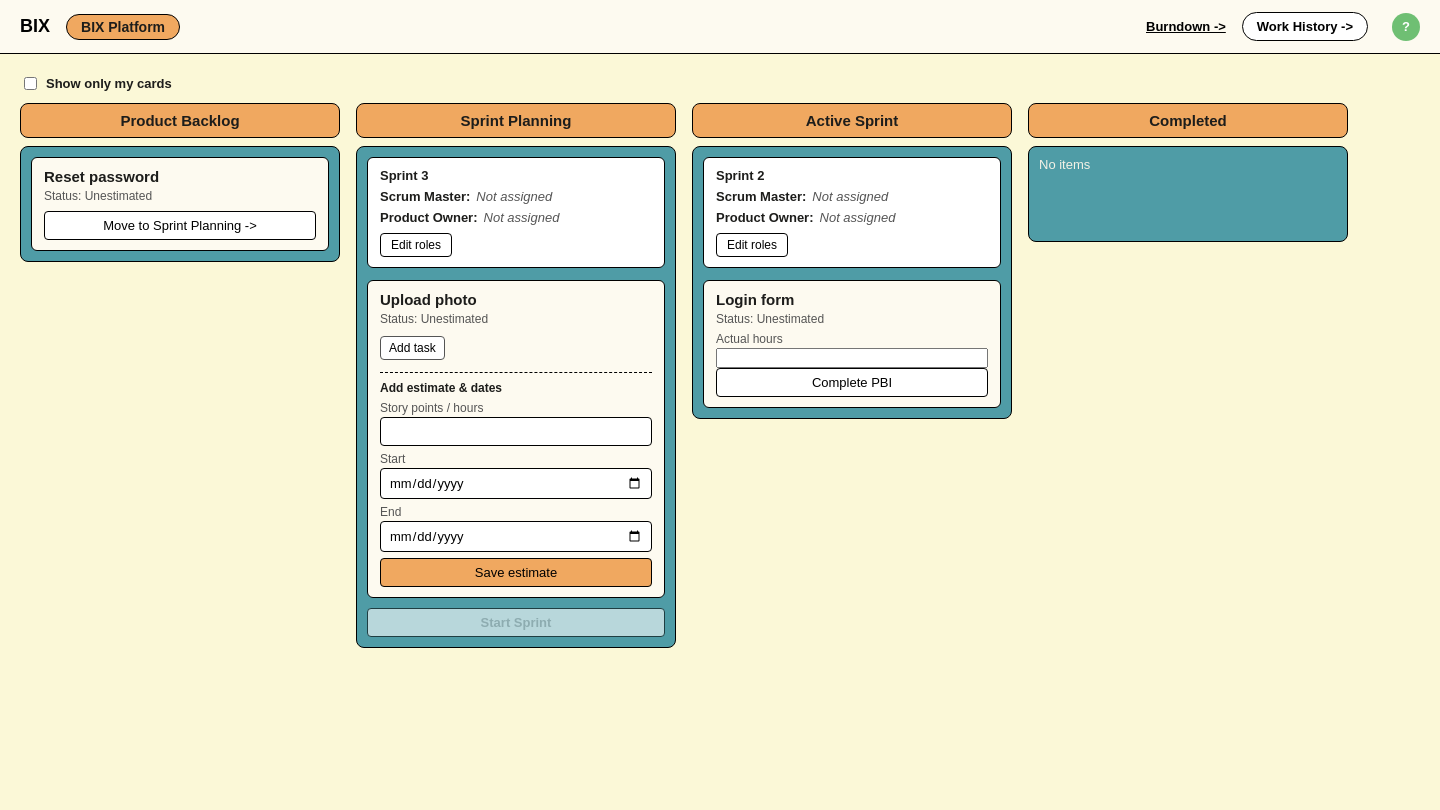
Scenario: Board page - sprint roles (US-09) › tags a Scrum Master with @ and a Product Owner, saves, and shows them after refresh
Expected: the heading "Upload photo" is shown, [380,291,477,308]
Click the button "Edit roles" below "Sprint 3": (416, 245) [380,233,452,257]
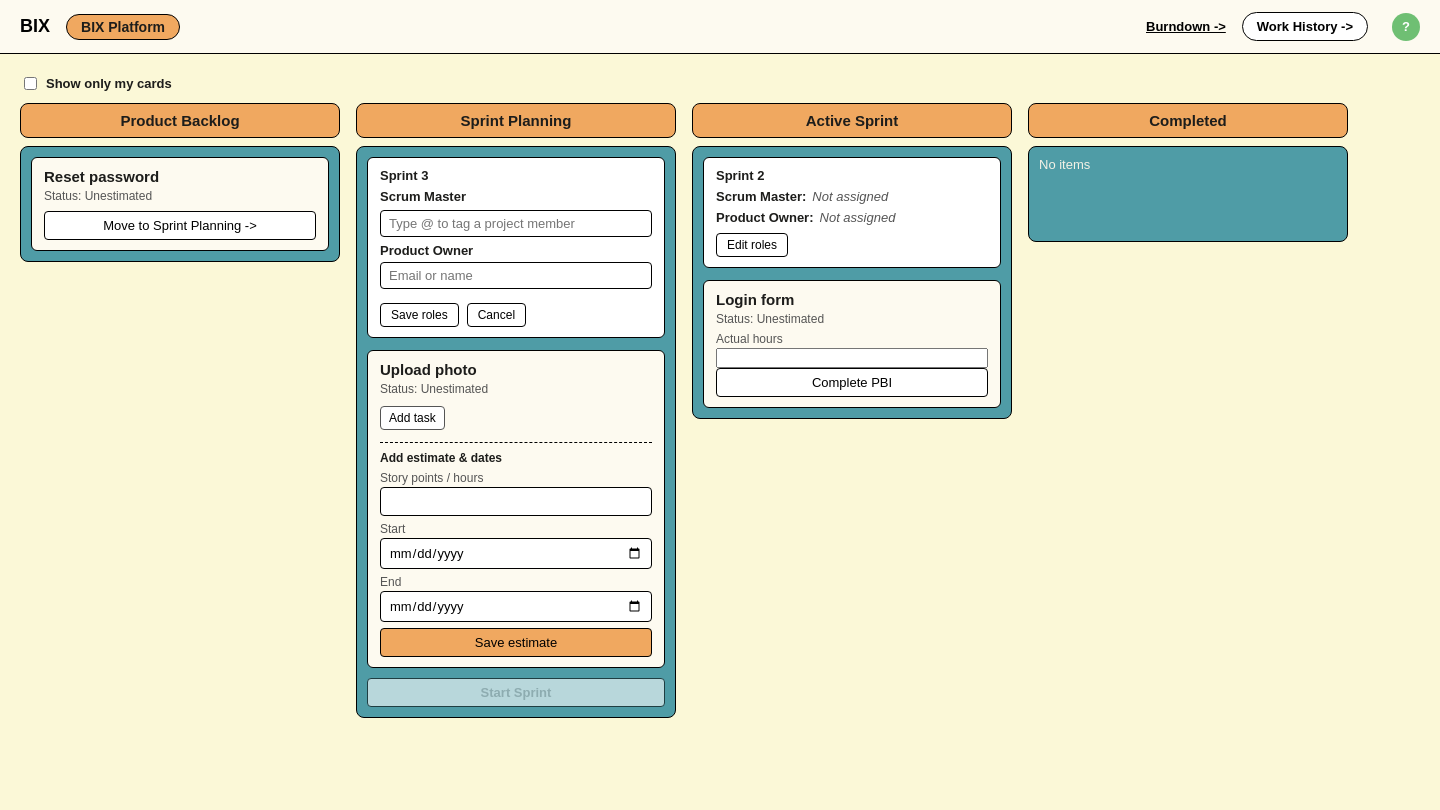
In the dropdown named "Scrum Master": (516, 224) [380,210,652,237], type "@pa"
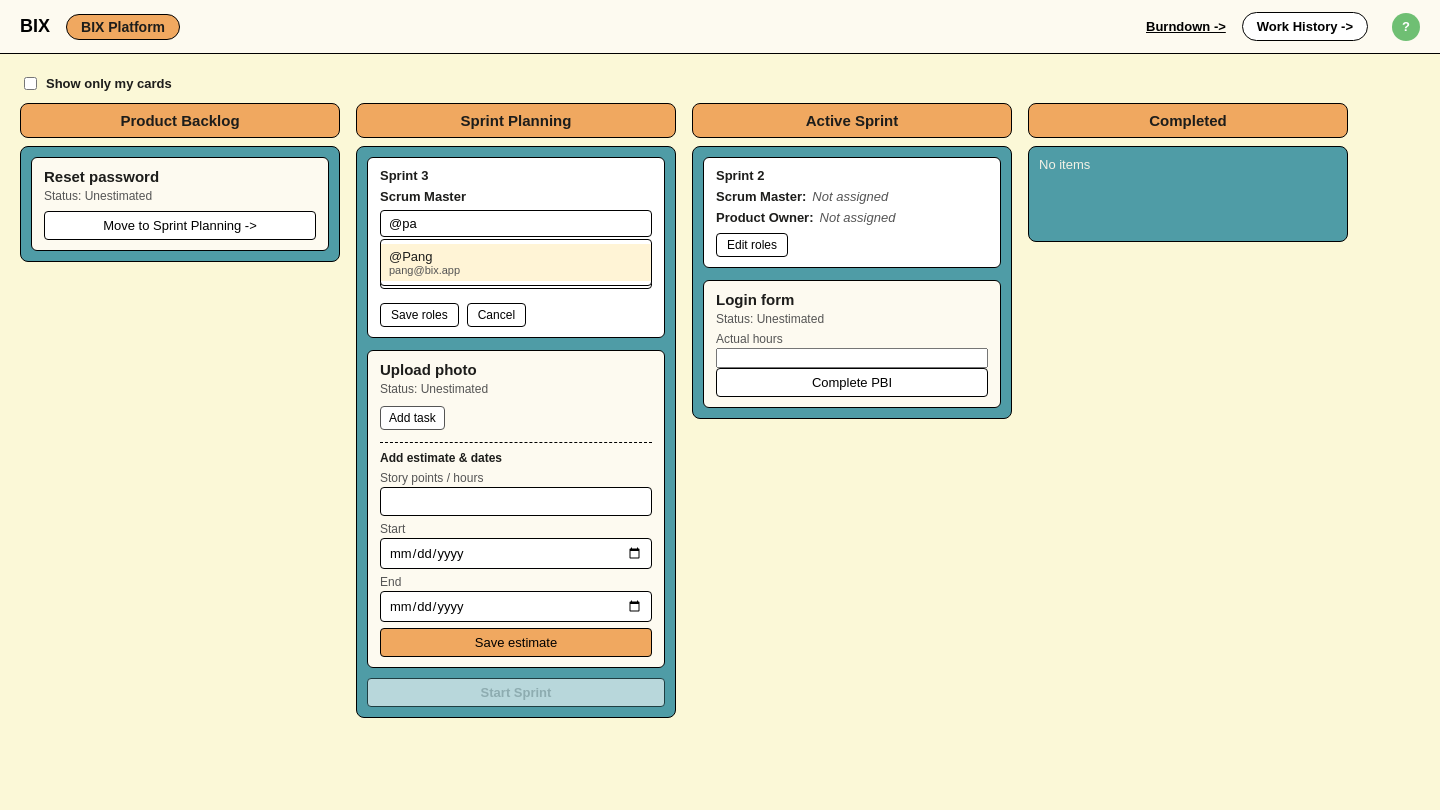
Result: the option "@Pang pang@bix.app" is shown
Press the mouse on the option "@Pang pang@bix.app": (417, 256) [381,244,651,281]
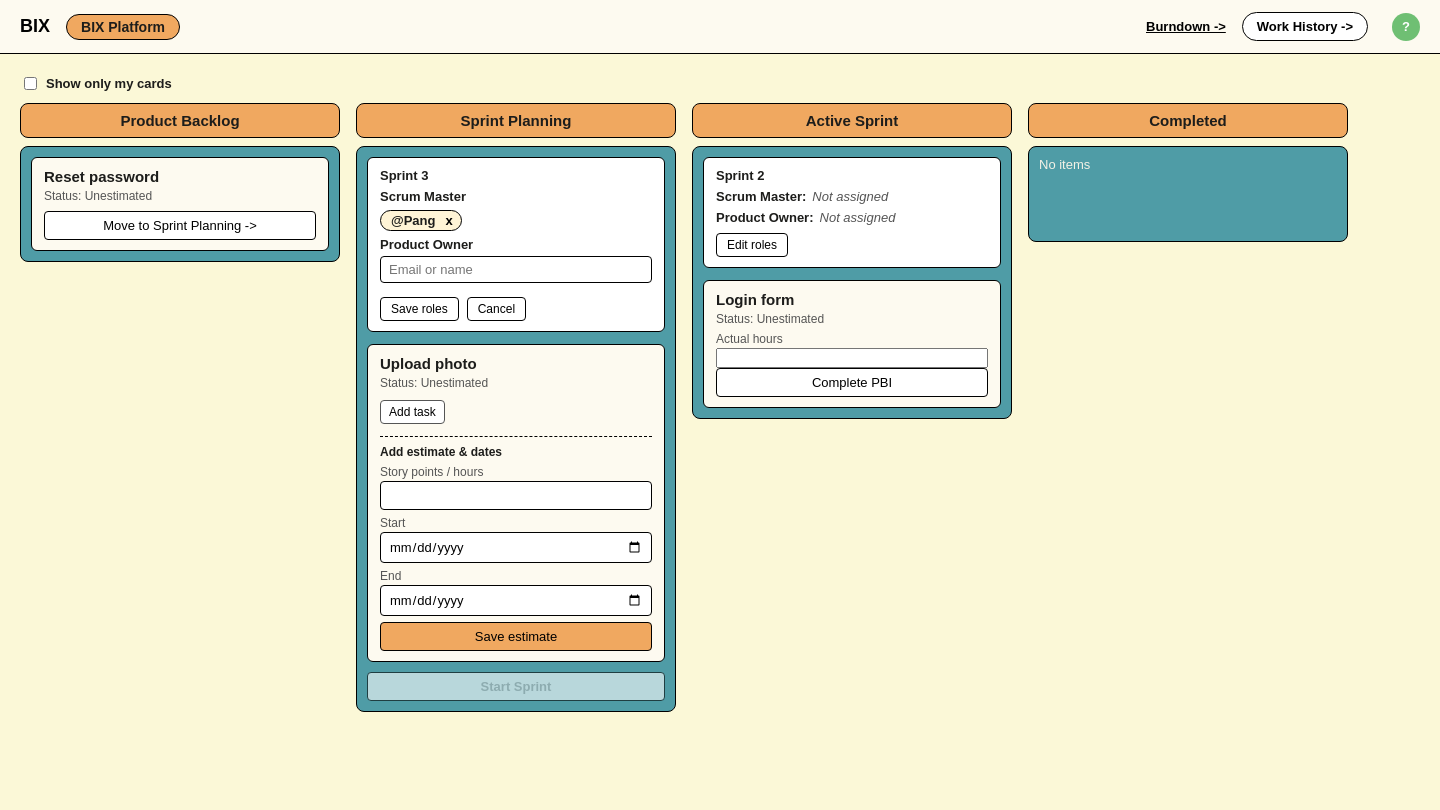
In the field with placeholder "Email or name": (516, 270) [380,256,652,283], type " client@example.com "
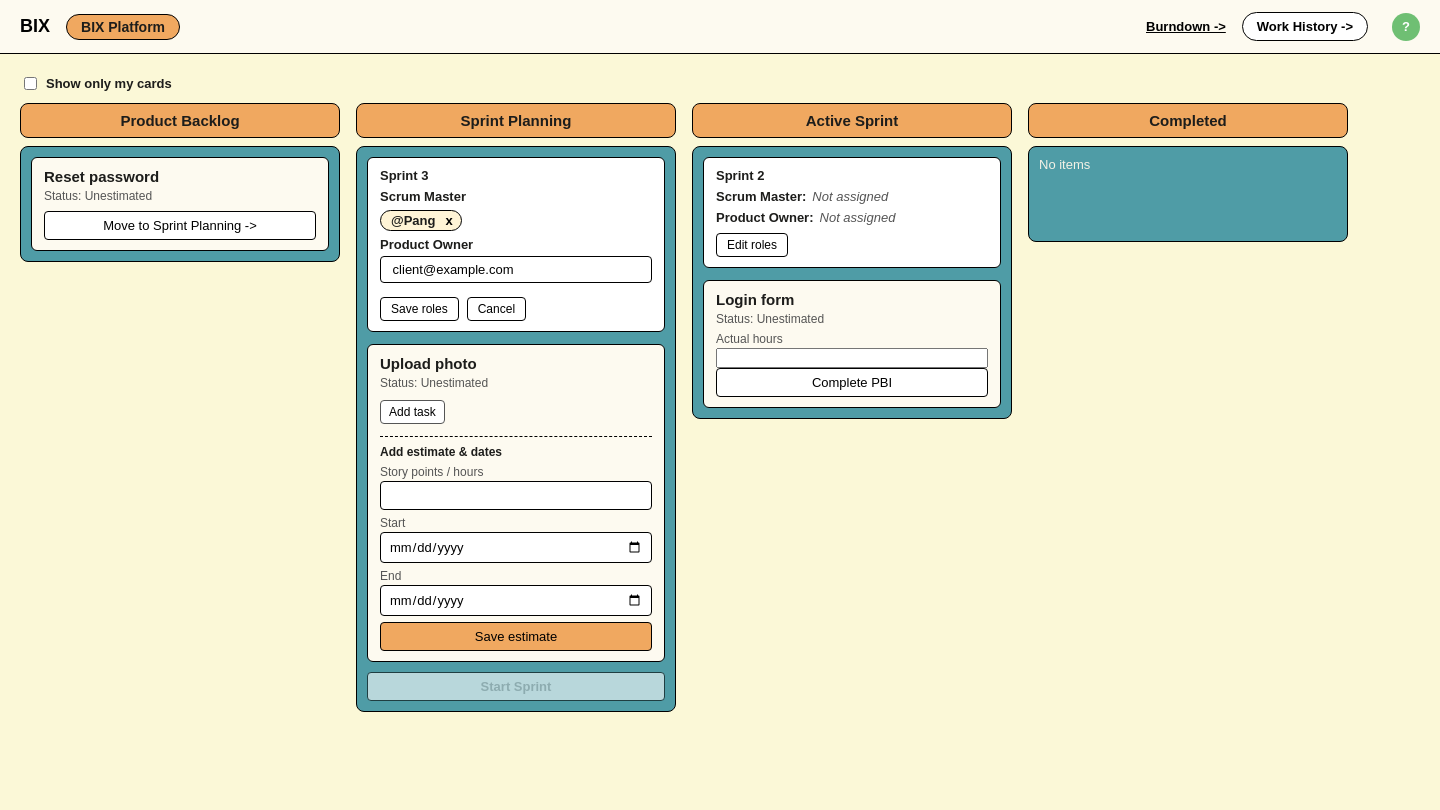
Click the button "Save roles": (419, 309) [380,297,459,321]
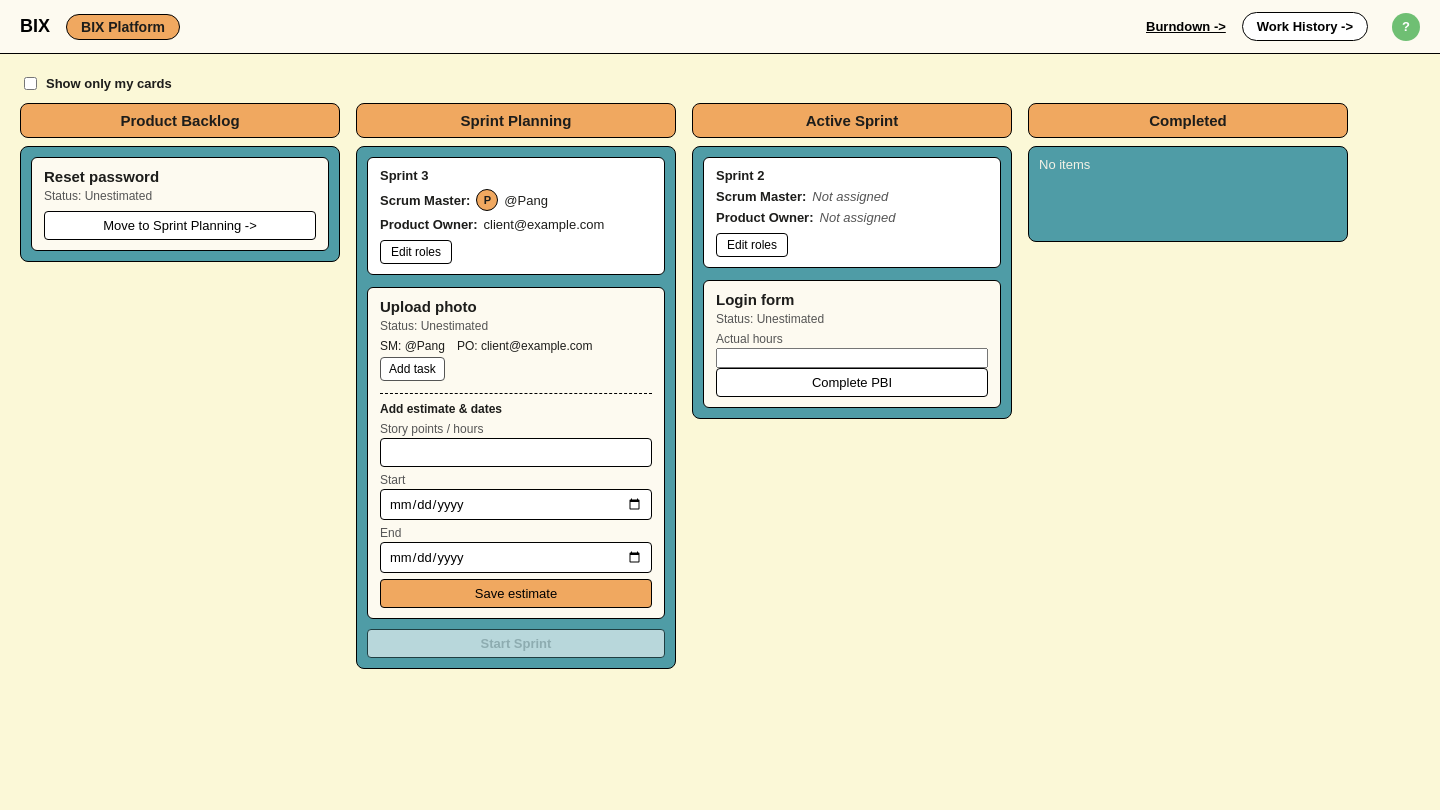
Result: the text "@Pang" is shown at [476,189,548,211]
Result: the text "SM: @Pang" is shown at [380,339,445,353]
